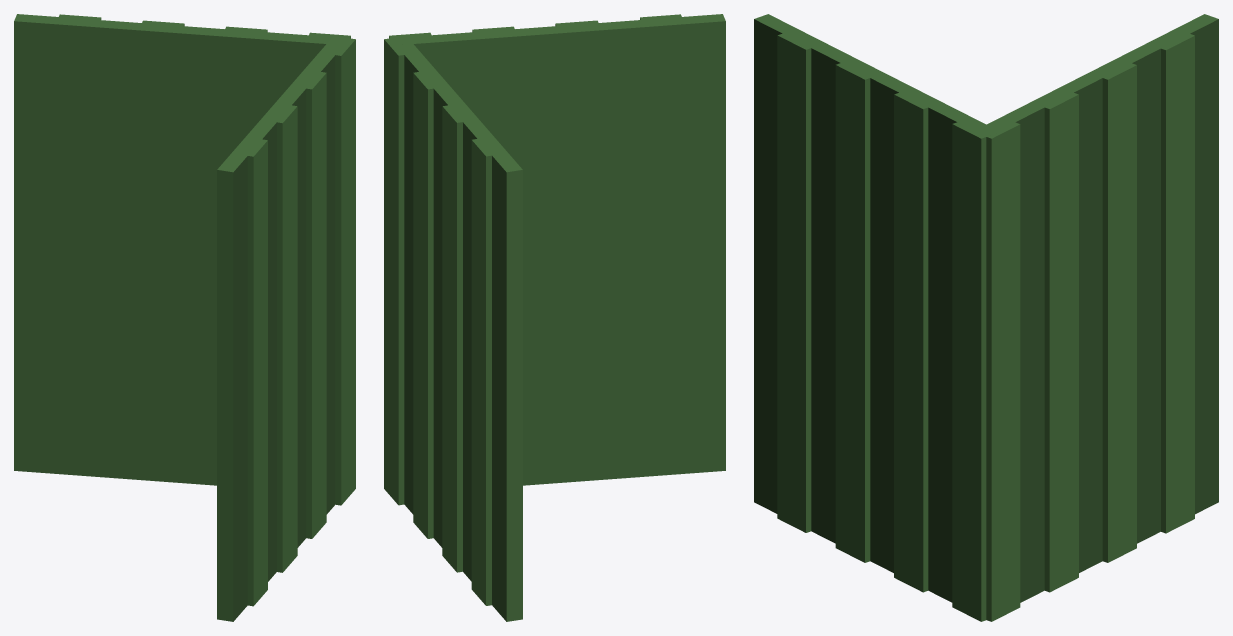
File: Fantasy_Low-Poly_Cabin.glb
3 views of the same model, side by side, from view 1: azimuth 30°, elevation 25°; view 2: azimuth 150°, elevation 25°; view 3: azimuth 270°, elevation 25° (orthographic). The views are drawn at different scales.
Visible parts, largest first — view 1: Roof.R_Roof_DGREEN.001_0, Roof.L_Roof_DGREEN.001_0, Roof.L_Roof_DGREEN_0; view 2: Roof.L_Roof_DGREEN.001_0, Roof.R_Roof_DGREEN.001_0, Roof.R_Roof_DGREEN_0; view 3: Roof.L_Roof_DGREEN.001_0, Roof.R_Roof_DGREEN.001_0, Roof.L_Roof_DGREEN_0, Roof.R_Roof_DGREEN_0.
Part boxes in pixels (box(x1,y1,x2,y2)): Roof.R_Roof_DGREEN.001_0: box(14, 14, 350, 485); Roof.L_Roof_DGREEN.001_0: box(217, 36, 355, 621); Roof.L_Roof_DGREEN_0: box(233, 55, 335, 621); Roof.L_Roof_DGREEN.001_0: box(389, 14, 725, 485); Roof.R_Roof_DGREEN.001_0: box(384, 38, 522, 621); Roof.R_Roof_DGREEN_0: box(404, 55, 506, 621); Roof.L_Roof_DGREEN.001_0: box(754, 14, 1000, 621); Roof.R_Roof_DGREEN.001_0: box(986, 14, 1218, 621); Roof.L_Roof_DGREEN_0: box(754, 19, 956, 602); Roof.R_Roof_DGREEN_0: box(1015, 19, 1218, 602).
Size of the model in its own units: 10.99 by 19.84 by 17.3.
